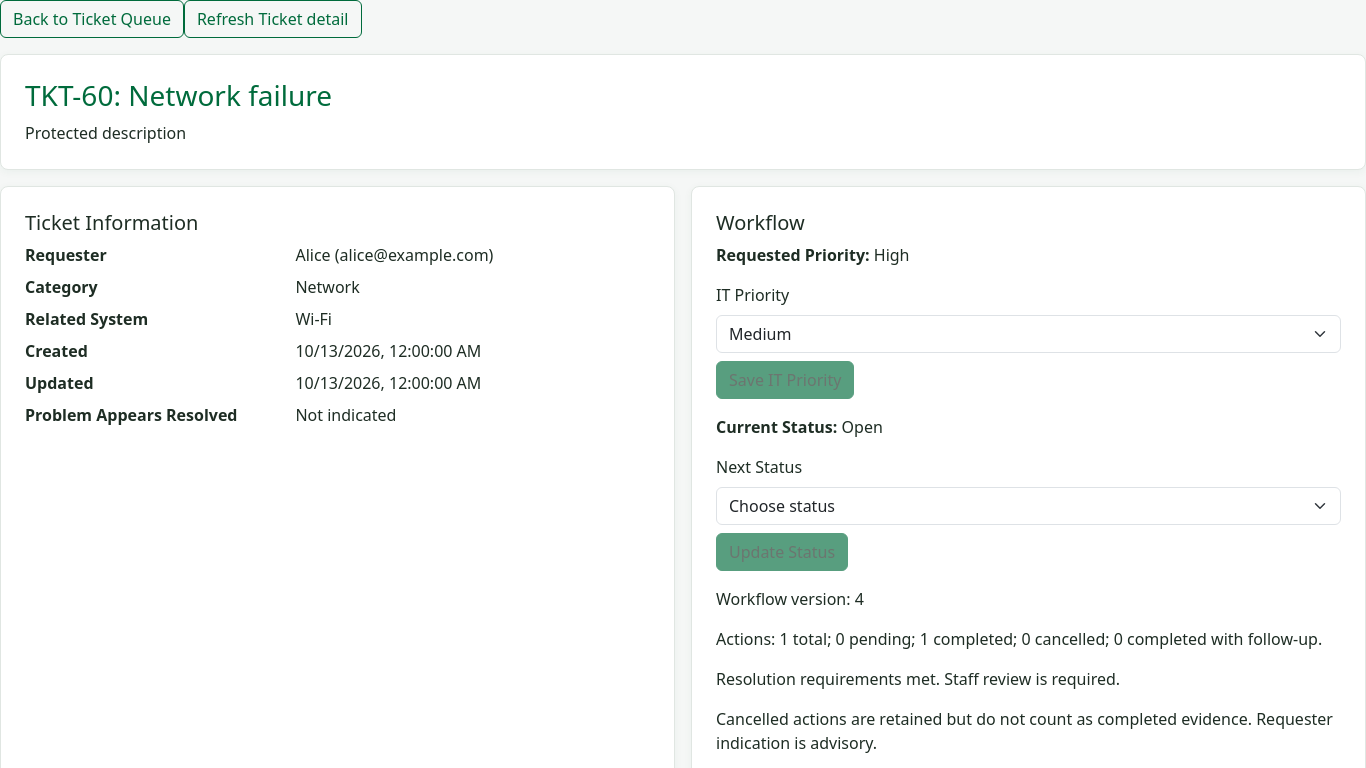
Scenario: Issue #60 workflow controls › clears protected parent and Action draft when mutation loses access (401)
Select "Resolved" in the dropdown labelled "Next Status" at (1028, 506), box 716,487 -> 1341,525
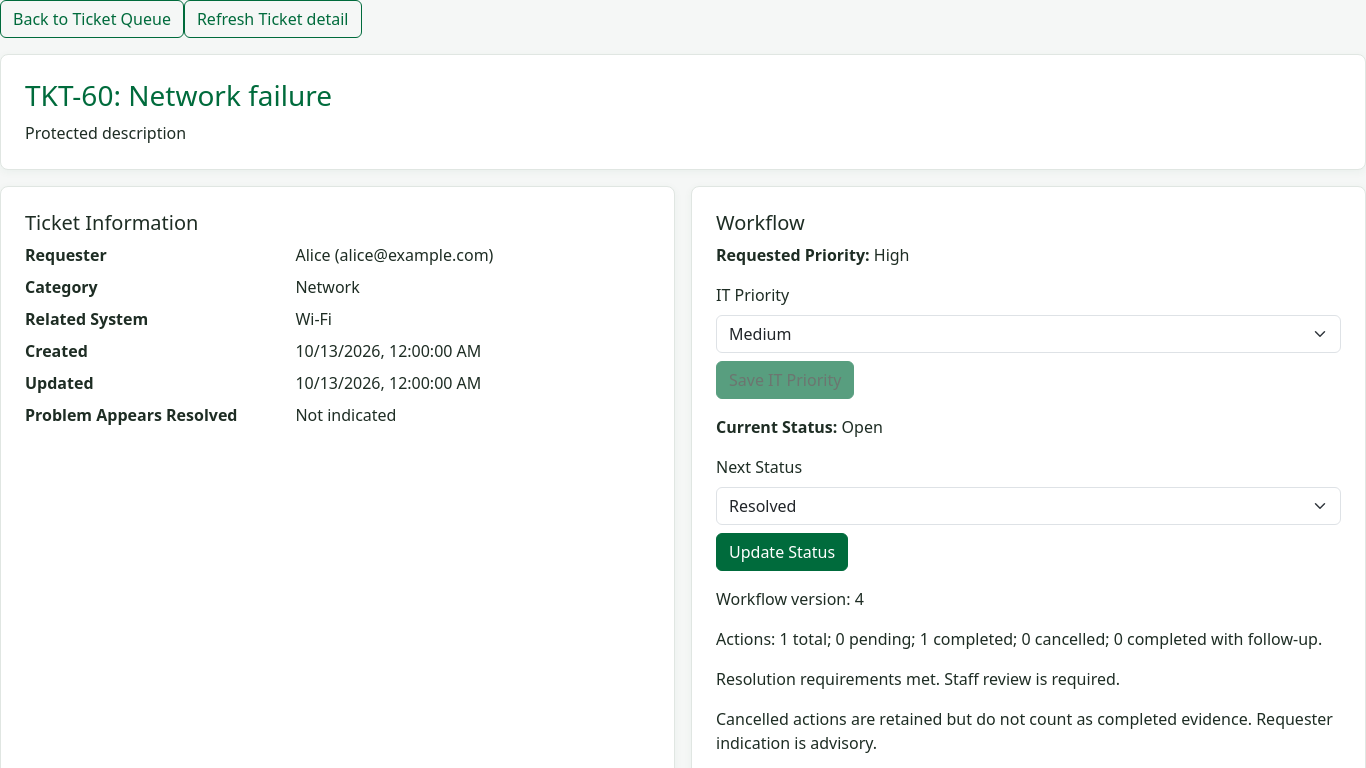
Click the button "Update Status".
click(782, 552)  # box 716,533 -> 848,571
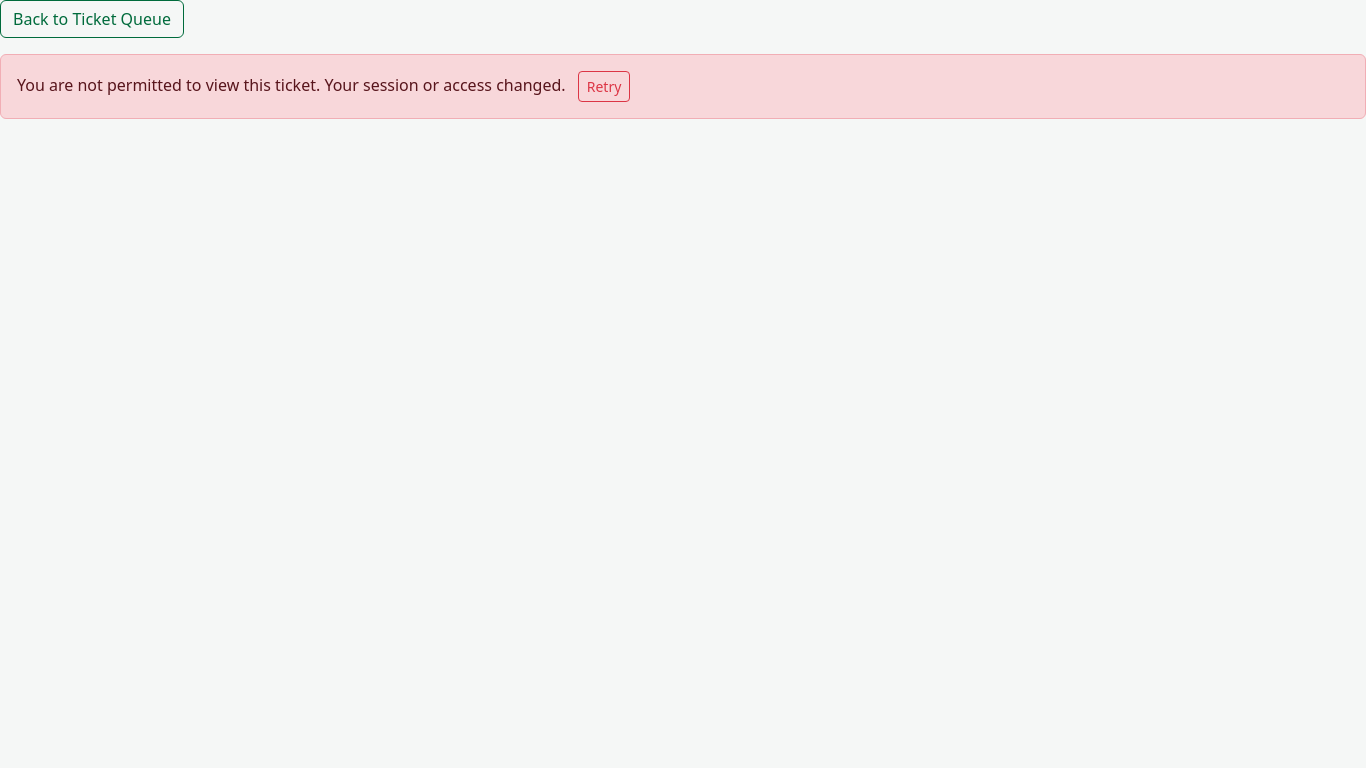
Now the text "session or access changed" is shown, box 17,74 -> 566,96
Now the text "Protected description" is gone
